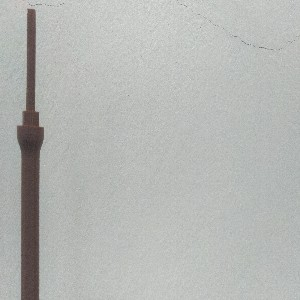obeng: (15, 8, 45, 300)
